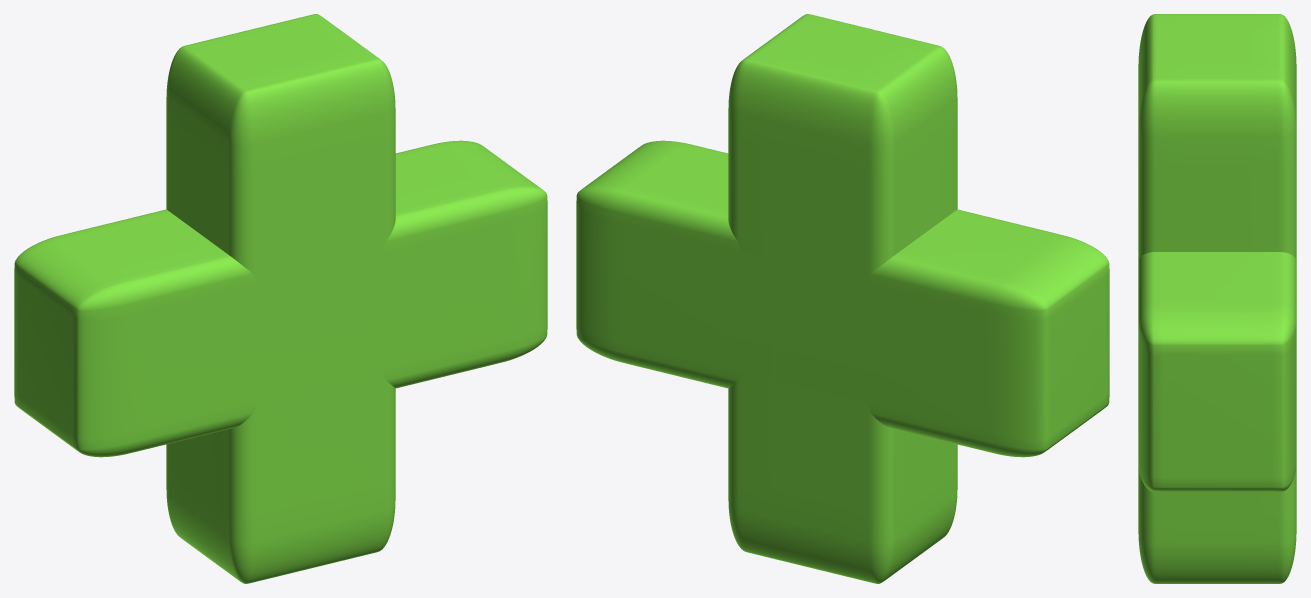
File: healthpickup3.fbx
3 views of the same model, side by side, from view 1: azimuth 30°, elevation 25°; view 2: azimuth 150°, elevation 25°; view 3: azimuth 270°, elevation 25° (orthographic). The views are drawn at different scales.
Parts seen in each view (by area): view 1: Cube; view 2: Cube; view 3: Cube.
Boxes of the visible parts, left/top/right/bottom form: Cube: left=14, top=14, right=547, bottom=583; Cube: left=576, top=14, right=1109, bottom=583; Cube: left=1138, top=14, right=1296, bottom=583.
Bounding box in the file's own units: 66.9 × 66.91 × 19.03.
